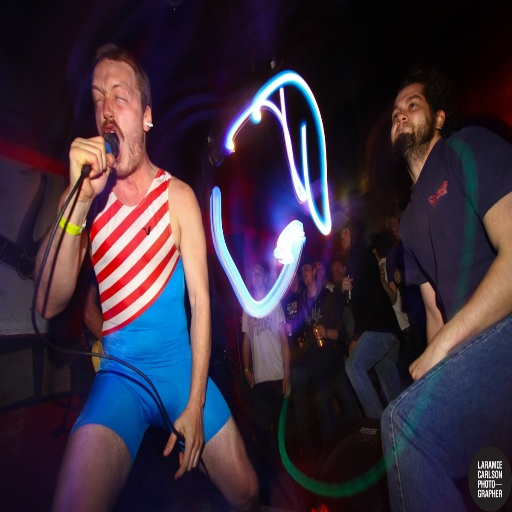hand: (160, 404, 204, 483), (61, 130, 104, 192), (408, 334, 450, 384), (313, 324, 327, 344), (338, 277, 352, 295), (391, 267, 403, 287), (281, 376, 291, 398), (244, 371, 255, 389), (377, 266, 386, 285), (285, 320, 292, 337), (290, 301, 296, 313)
